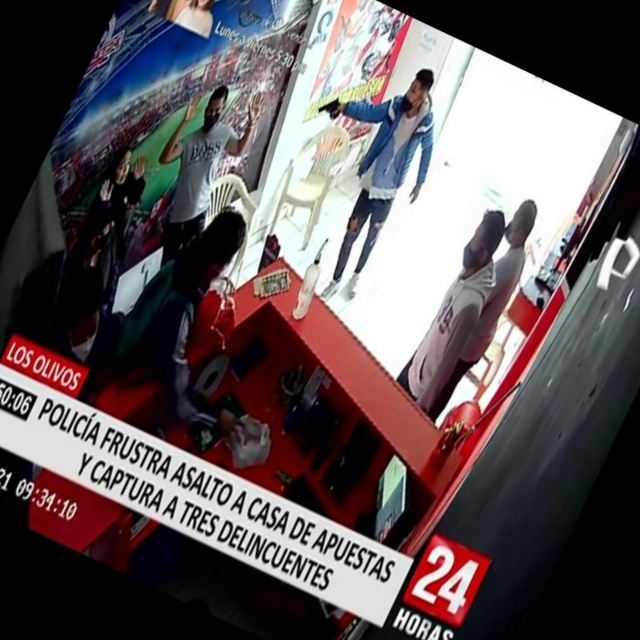gun: (305, 74, 359, 136)
